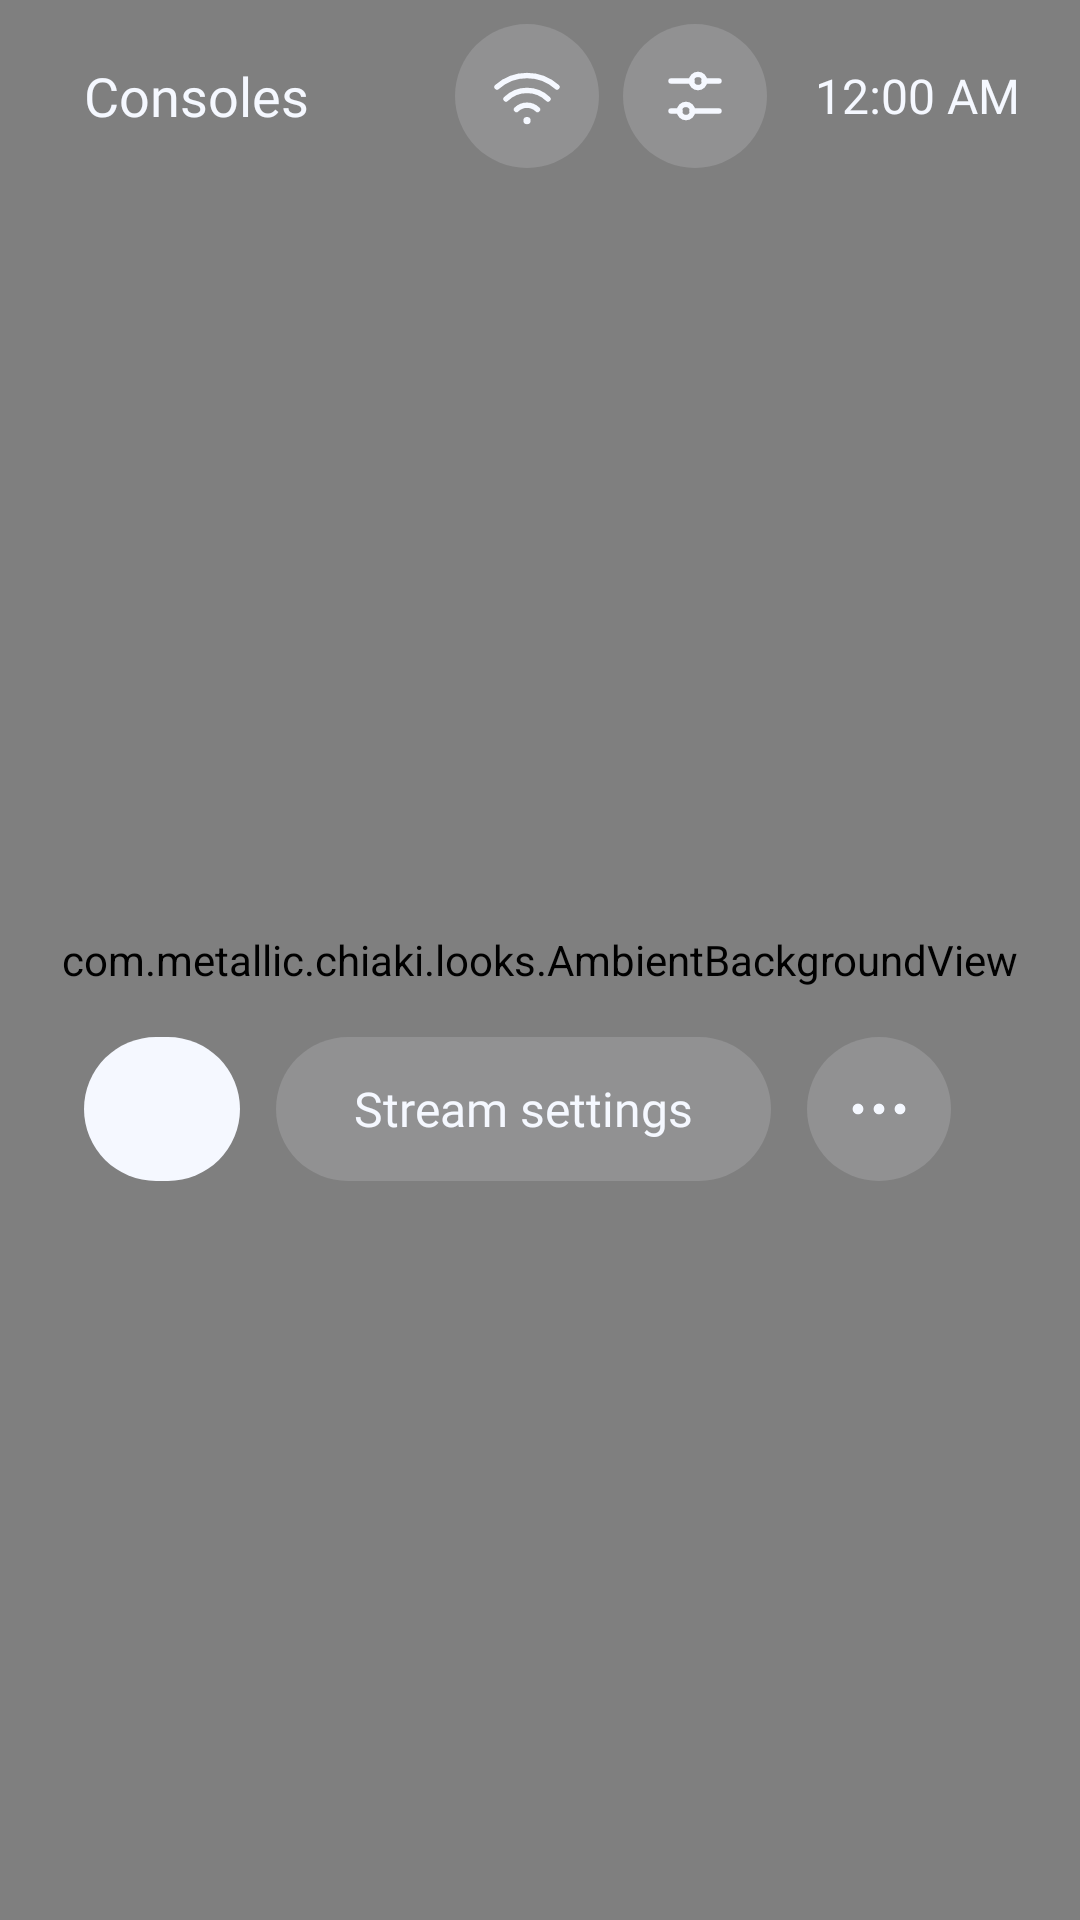

Icons on this 1080w x 1920h Android screen, each with its box as box(x1, y1, x2, y2):
look more: box(852, 1103, 906, 1115)
Settings: box(623, 24, 767, 168)
